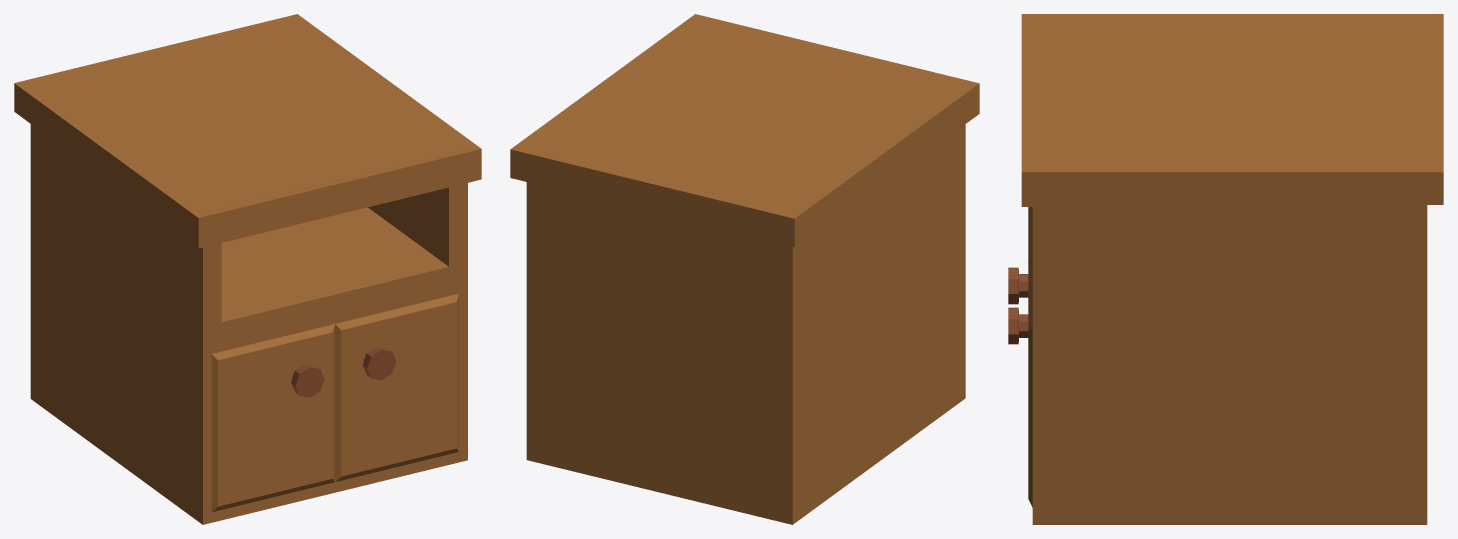
The model's file is SM_nightstand_01.fbx.
The picture shows the model from 3 angles, left to right: view 1: azimuth 30°, elevation 25°; view 2: azimuth 150°, elevation 25°; view 3: azimuth 270°, elevation 25°; orthographic projection. The views are drawn at different scales.
Visible parts, largest first — view 1: SM_Nightstand_01, SM_Nightstand_handles_01; view 2: SM_Nightstand_01; view 3: SM_Nightstand_01, SM_Nightstand_handles_01.
Boxes of the visible parts, box(x1,y1,x2,y2) form: SM_Nightstand_01: box(14, 14, 481, 524); SM_Nightstand_handles_01: box(291, 346, 396, 397); SM_Nightstand_01: box(510, 14, 979, 524); SM_Nightstand_01: box(1021, 14, 1443, 524); SM_Nightstand_handles_01: box(1008, 267, 1028, 344).
Size of the model in its own units: 87.33 by 92.1 by 102.
